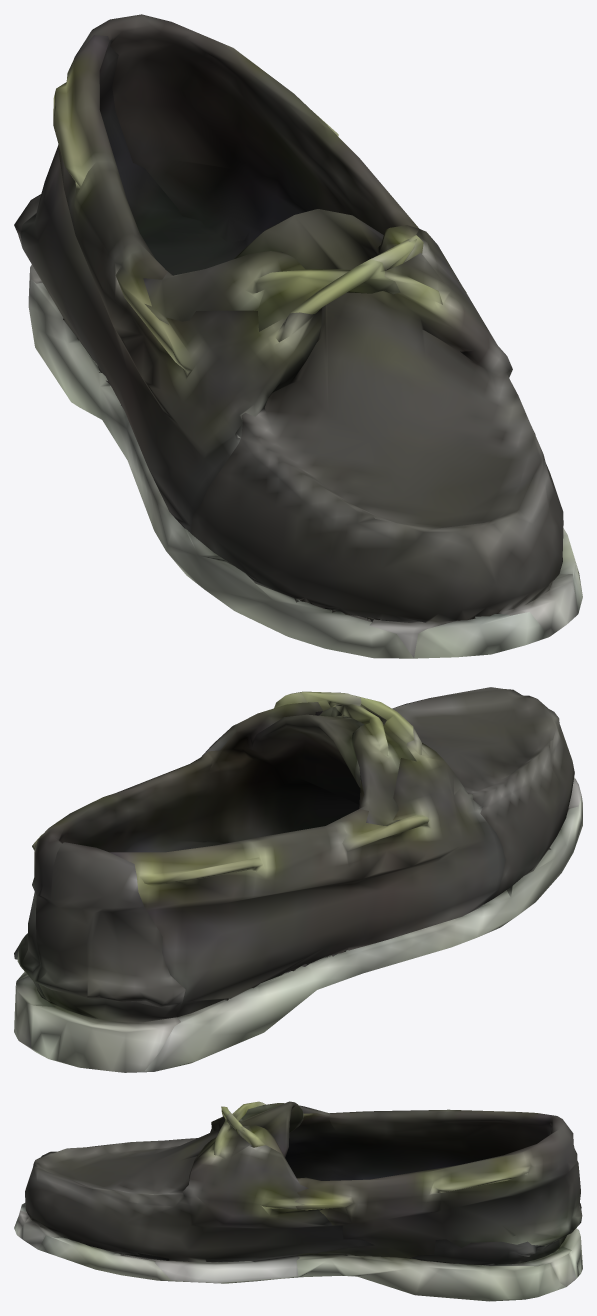
The model's file is Womens_Authentic_Original_Boat_Shoe_in_Classic_Brown_Leather_48Nh7VuMwW6-medium.glb.
3 renders of one model, top to bottom at view 1: azimuth 30°, elevation 25°; view 2: azimuth 150°, elevation 25°; view 3: azimuth 270°, elevation 25°, orthographic. The views are drawn at different scales.
Visible parts, largest first — view 1: Womens_Authentic_Original_Boat_Shoe_in_Classic_Brown_Leather; view 2: Womens_Authentic_Original_Boat_Shoe_in_Classic_Brown_Leather; view 3: Womens_Authentic_Original_Boat_Shoe_in_Classic_Brown_Leather.
Part boxes in pixels (x1=…): Womens_Authentic_Original_Boat_Shoe_in_Classic_Brown_Leather: x1=14, y1=14, x2=582, y2=658; Womens_Authentic_Original_Boat_Shoe_in_Classic_Brown_Leather: x1=14, y1=687, x2=582, y2=1072; Womens_Authentic_Original_Boat_Shoe_in_Classic_Brown_Leather: x1=14, y1=1101, x2=582, y2=1301.
Bounding box in the file's own units: 0.0973 × 0.074 × 0.2451.
Materials: 1 (1 with a texture image).
